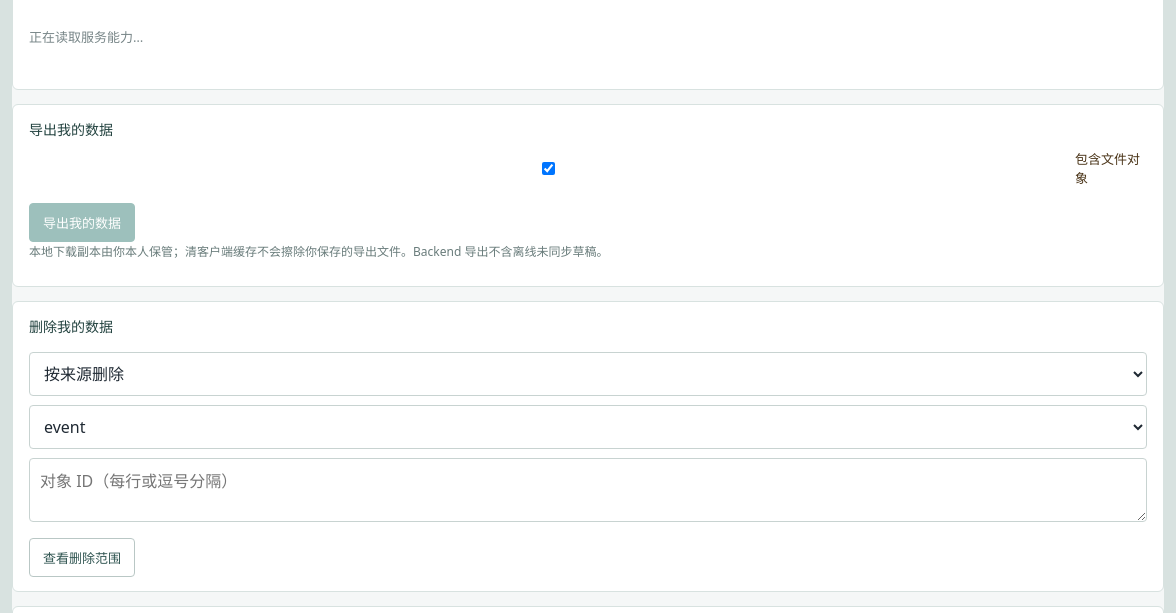
Test: 数据与隐私页 › source 删除全流：preview 文案 → 确认 202 → 轮询 COMPLETED 文案
Type "019ddddd-bbbb-7000-8000-000000000009" into the text box labelled "对象 ID" at (588, 490), box top-left (29, 458), bottom-right (1147, 522)
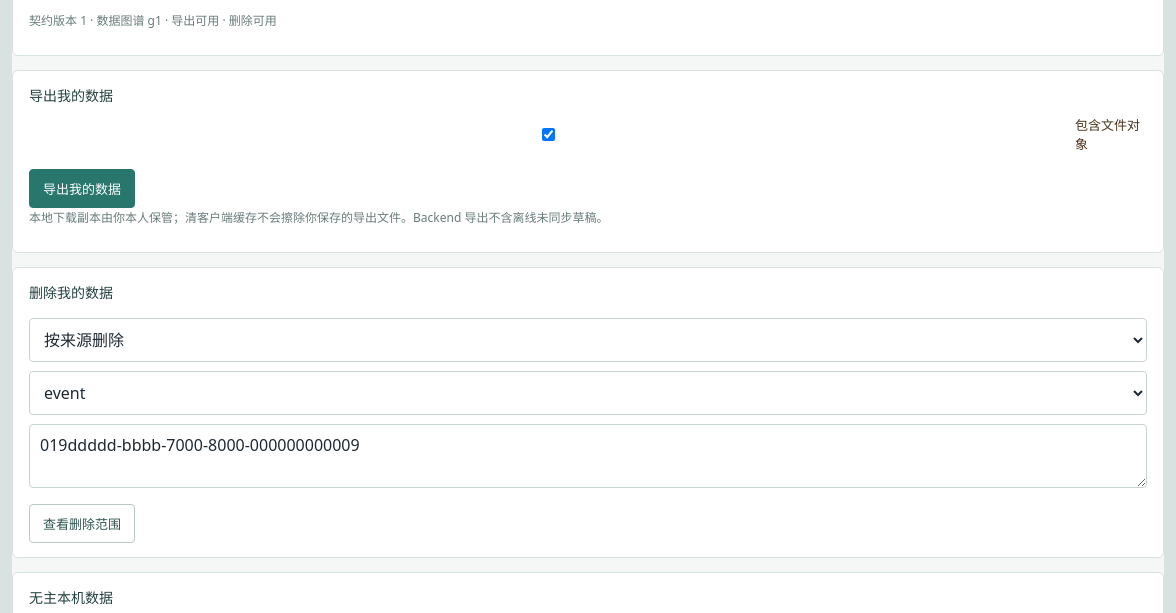
Click the button "查看删除范围" at (82, 524), box top-left (29, 504), bottom-right (135, 543)
(page scrolled)
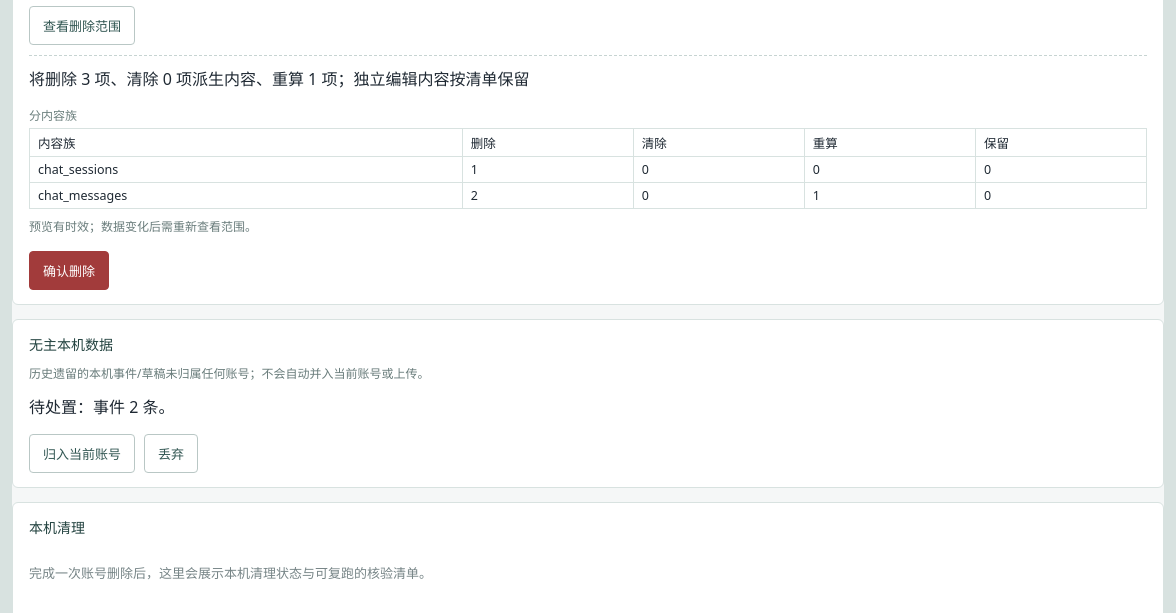
Result: the text "将删除 3 项、清除 0 项派生内容、重算 1 项；独立编辑内容按清单保留" is shown at top-left (29, 68), bottom-right (529, 90)
Click the button "确认删除" at (69, 270), box top-left (29, 251), bottom-right (109, 290)
(page scrolled)
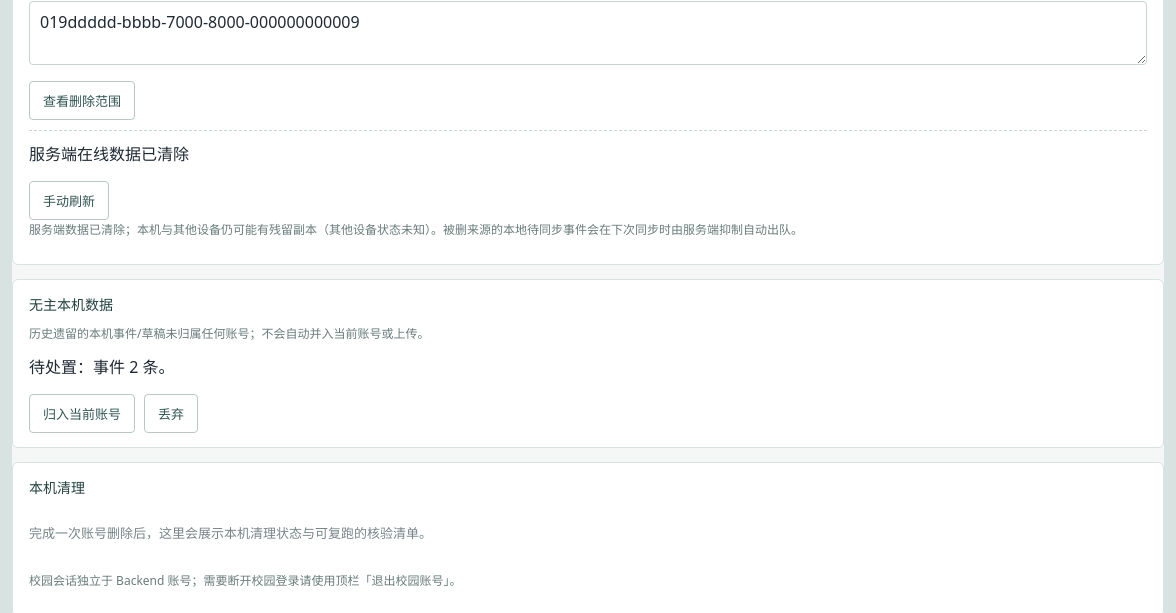
Result: the text "服务端在线数据已清除" is shown at top-left (29, 142), bottom-right (189, 164)
